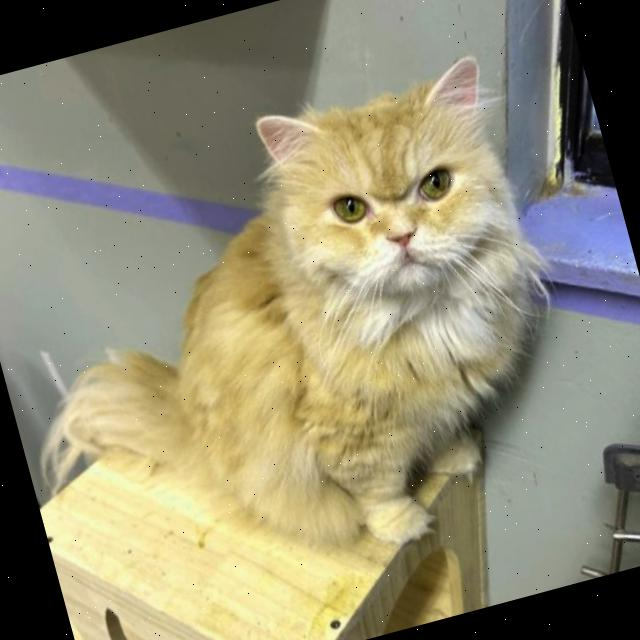persian_cat: (207, 37, 567, 412)
